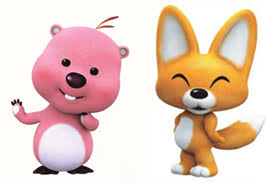Loopy: (10, 16, 131, 175)
